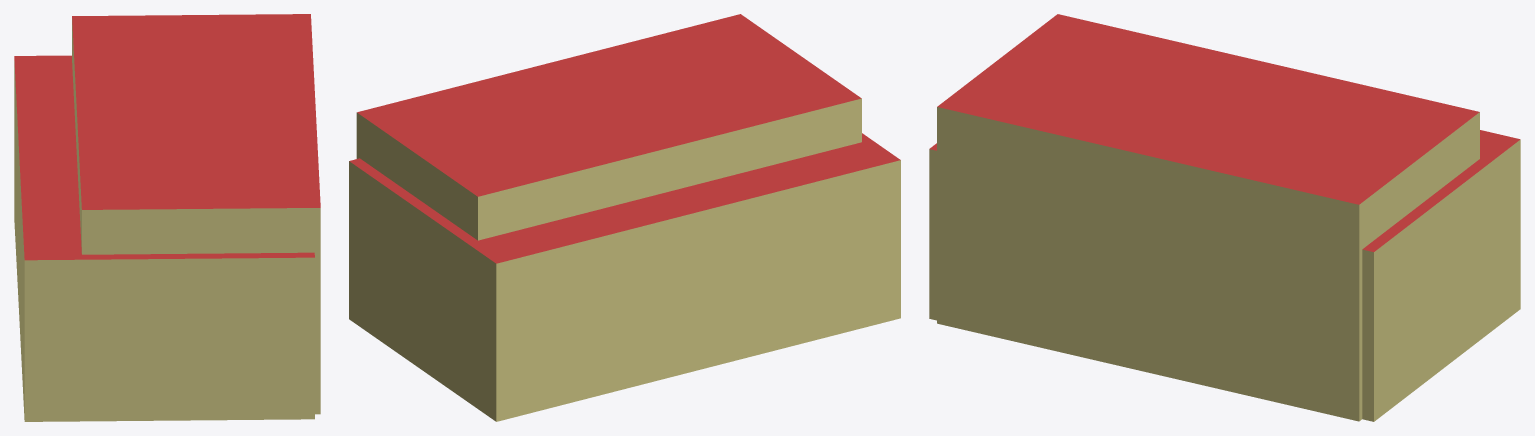
3 renders of one model, left to right at view 1: azimuth 30°, elevation 25°; view 2: azimuth 150°, elevation 25°; view 3: azimuth 270°, elevation 25°, orthographic. The views are drawn at different scales.
Visible parts, largest first — view 1: group_4, group_6, group_3, group_7; view 2: group_4, group_6, group_7, group_3; view 3: group_7, group_6, group_4, group_3.
Part boxes in pixels (left/top/right/bottom): group_4: left=14, top=61, right=314, bottom=421; group_6: left=72, top=14, right=320, bottom=209; group_3: left=14, top=55, right=314, bottom=260; group_7: left=72, top=18, right=320, bottom=414; group_4: left=349, top=160, right=900, bottom=421; group_6: left=357, top=14, right=861, bottom=196; group_7: left=356, top=98, right=861, bottom=240; group_3: left=349, top=133, right=900, bottom=263; group_7: left=937, top=107, right=1479, bottom=421; group_6: left=937, top=14, right=1479, bottom=204; group_4: left=929, top=139, right=1520, bottom=421; group_3: left=929, top=130, right=1520, bottom=251.
Bounding box in the file's own units: 30.52 × 35.3 × 14.27.
